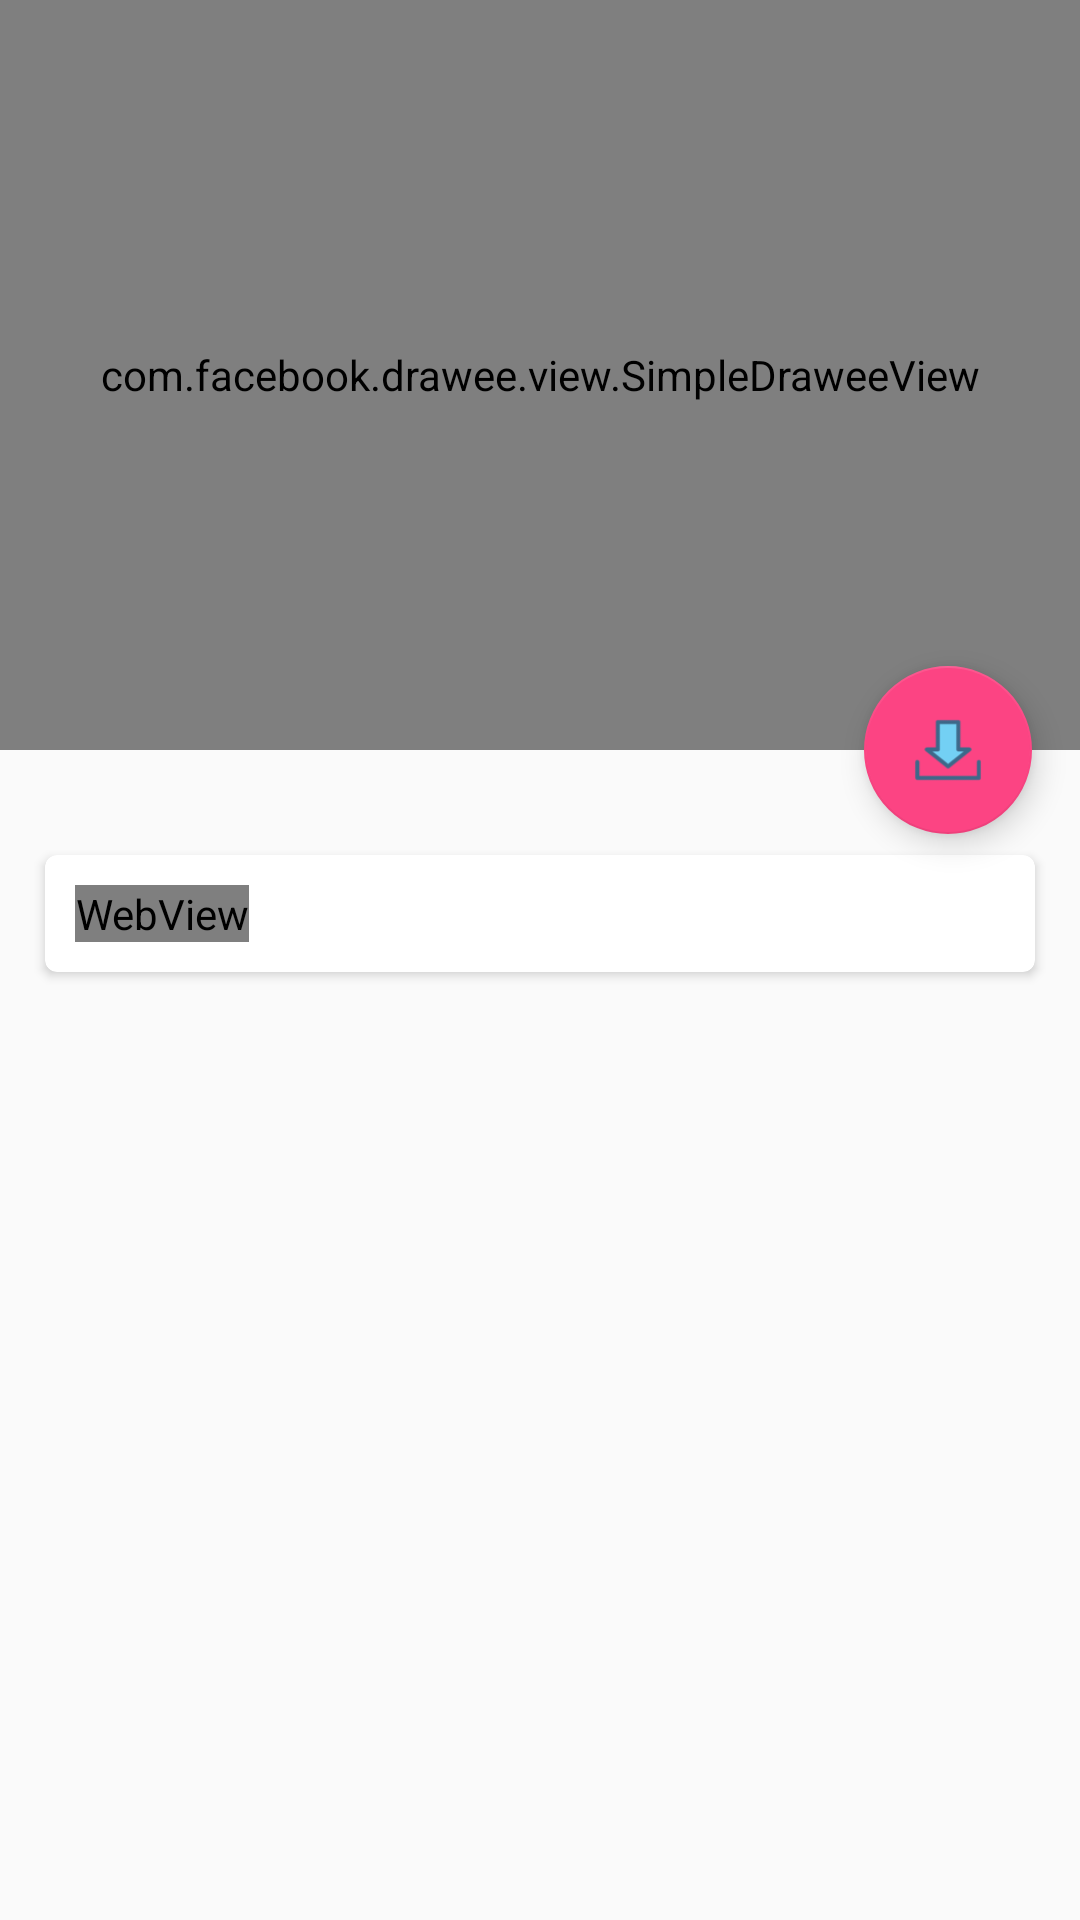

Icon click points for this 1080w x 1920h phone screenshot, format point (x, y):
download: point (948, 750)
